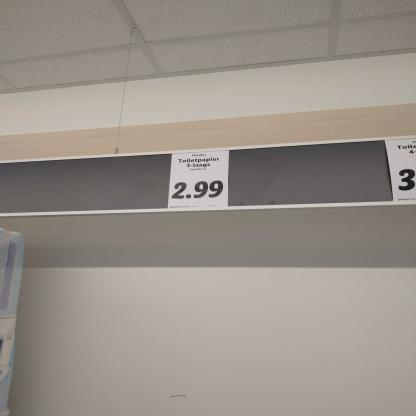prtg: (168, 151, 230, 209), (385, 139, 416, 202)
